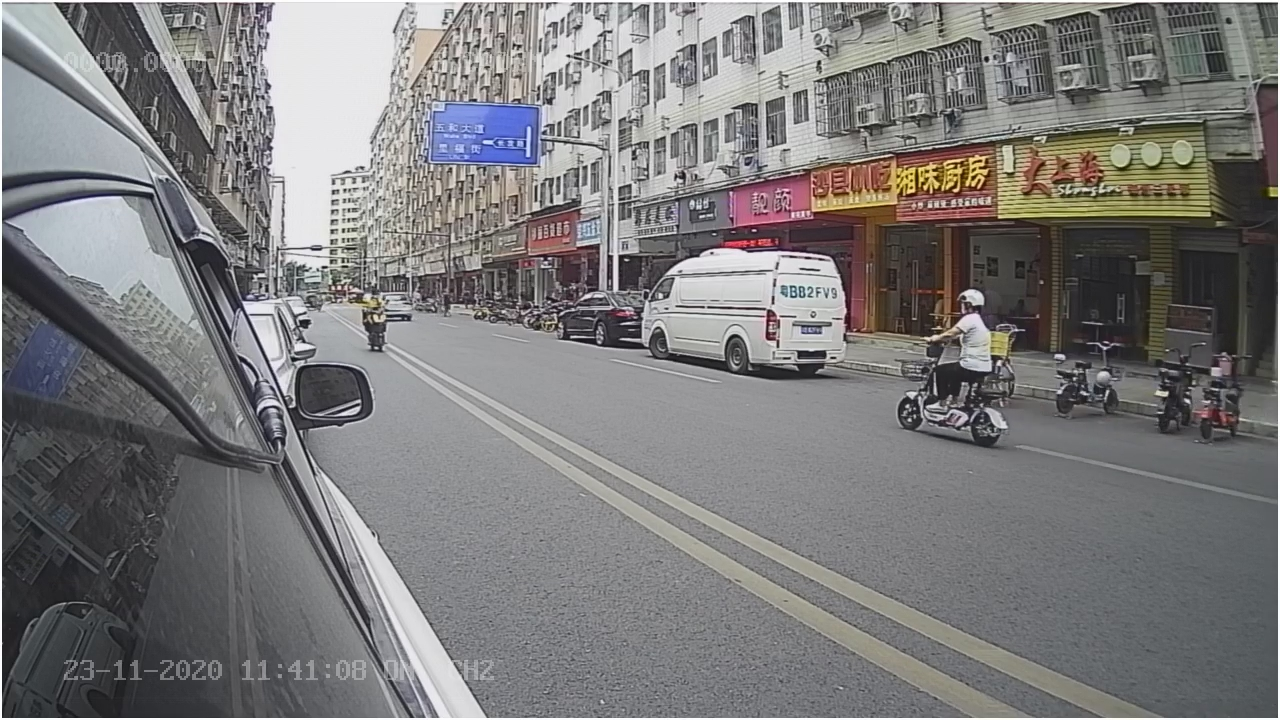person: (949, 286, 998, 378)
